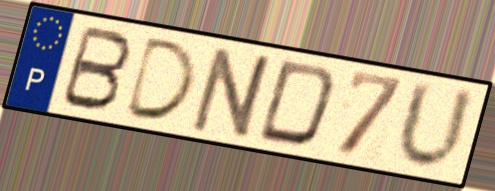7: (334, 68, 408, 161)
B: (56, 22, 135, 113)
D: (253, 57, 341, 150), (120, 34, 201, 124)
N: (186, 44, 281, 143)
U: (393, 76, 479, 174)
